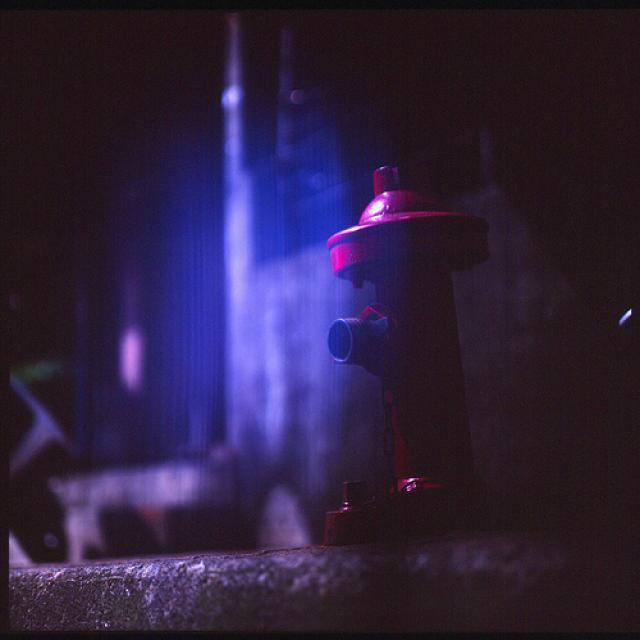fire_hydrant: (326, 155, 521, 598)
